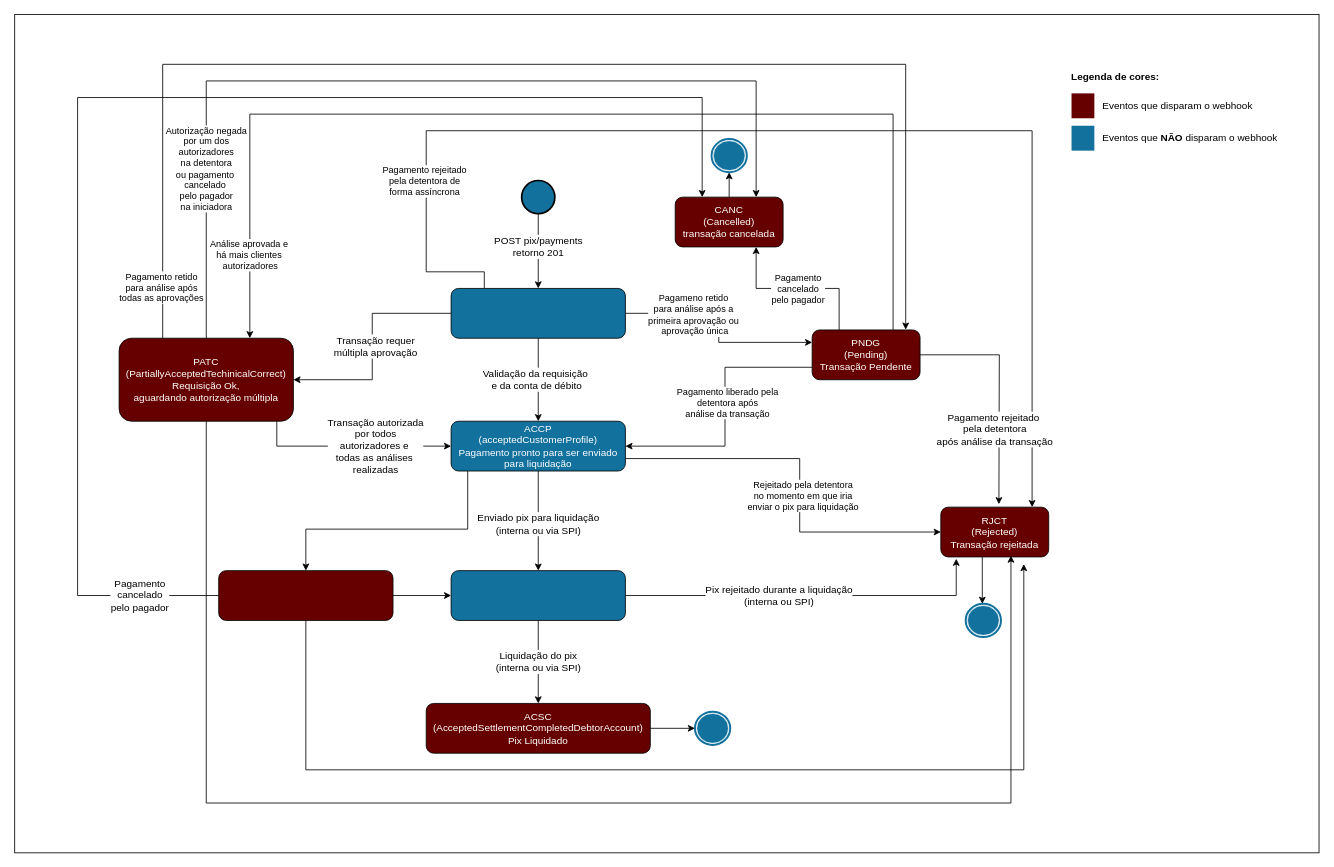
The diagram is 1334 pixels wide and 867 high, and some of its shapes have lost their labels. Here are the shapes that lost their labels. From the top down, the centre of each, then its label:
At [537,313]: "RCVD (Rceived) Requisição recebida".
At [305,595]: "SCHD (Scheduled) Pix Agendado com sucesso".
At [537,595]: "ACPD (AcceptedClearingProcessed) Pix enviado para liquidação".
